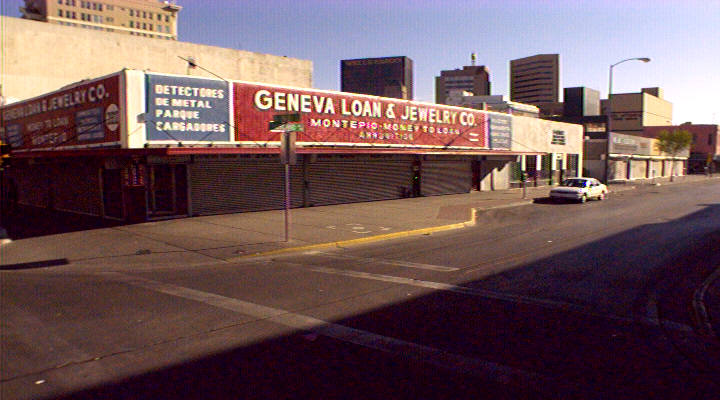Ramp: (1, 237, 302, 274)
